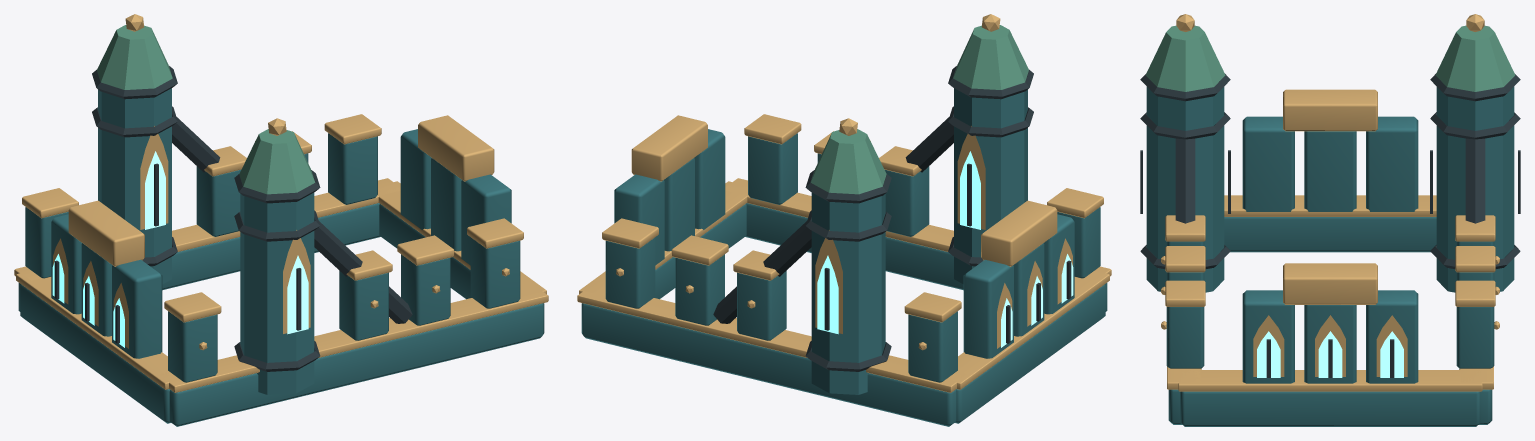
The model's file is crown-bastion.glb.
The picture shows the model from 3 angles, left to right: view 1: azimuth 30°, elevation 25°; view 2: azimuth 150°, elevation 25°; view 3: azimuth 270°, elevation 25°; orthographic projection.
Visible parts, largest first — view 1: crown-bastion / Paint | armory deep Hanseatic enamel, crown-bastion / Brass | armory machined champagne bronze, crown-bastion / Structure | armory dark pressure steel, crown-bastion / Copper | armory oxidized steep roof, crown-bastion / Lamp | armory pale electric mint; view 2: crown-bastion / Paint | armory deep Hanseatic enamel, crown-bastion / Brass | armory machined champagne bronze, crown-bastion / Structure | armory dark pressure steel, crown-bastion / Copper | armory oxidized steep roof, crown-bastion / Lamp | armory pale electric mint; view 3: crown-bastion / Paint | armory deep Hanseatic enamel, crown-bastion / Brass | armory machined champagne bronze, crown-bastion / Structure | armory dark pressure steel, crown-bastion / Copper | armory oxidized steep roof, crown-bastion / Lamp | armory pale electric mint.
Part boxes in pixels (x1,y1,x2,y2): crown-bastion / Paint | armory deep Hanseatic enamel: (18, 88, 544, 426); crown-bastion / Brass | armory machined champagne bronze: (14, 14, 548, 392); crown-bastion / Structure | armory dark pressure steel: (54, 66, 412, 371); crown-bastion / Copper | armory oxidized steep roof: (97, 25, 315, 194); crown-bastion / Lamp | armory pale electric mint: (52, 151, 308, 347); crown-bastion / Paint | armory deep Hanseatic enamel: (581, 88, 1107, 426); crown-bastion / Brass | armory machined champagne bronze: (577, 14, 1111, 392); crown-bastion / Structure | armory dark pressure steel: (713, 66, 1071, 371); crown-bastion / Copper | armory oxidized steep roof: (810, 25, 1028, 194); crown-bastion / Lamp | armory pale electric mint: (817, 151, 1073, 347); crown-bastion / Paint | armory deep Hanseatic enamel: (1146, 86, 1514, 426); crown-bastion / Brass | armory machined champagne bronze: (1161, 14, 1499, 391); crown-bastion / Structure | armory dark pressure steel: (1140, 74, 1520, 377); crown-bastion / Copper | armory oxidized steep roof: (1145, 25, 1515, 91); crown-bastion / Lamp | armory pale electric mint: (1257, 331, 1403, 377).
Bounding box in the file's own units: 3.42 × 2.33 × 2.84.
